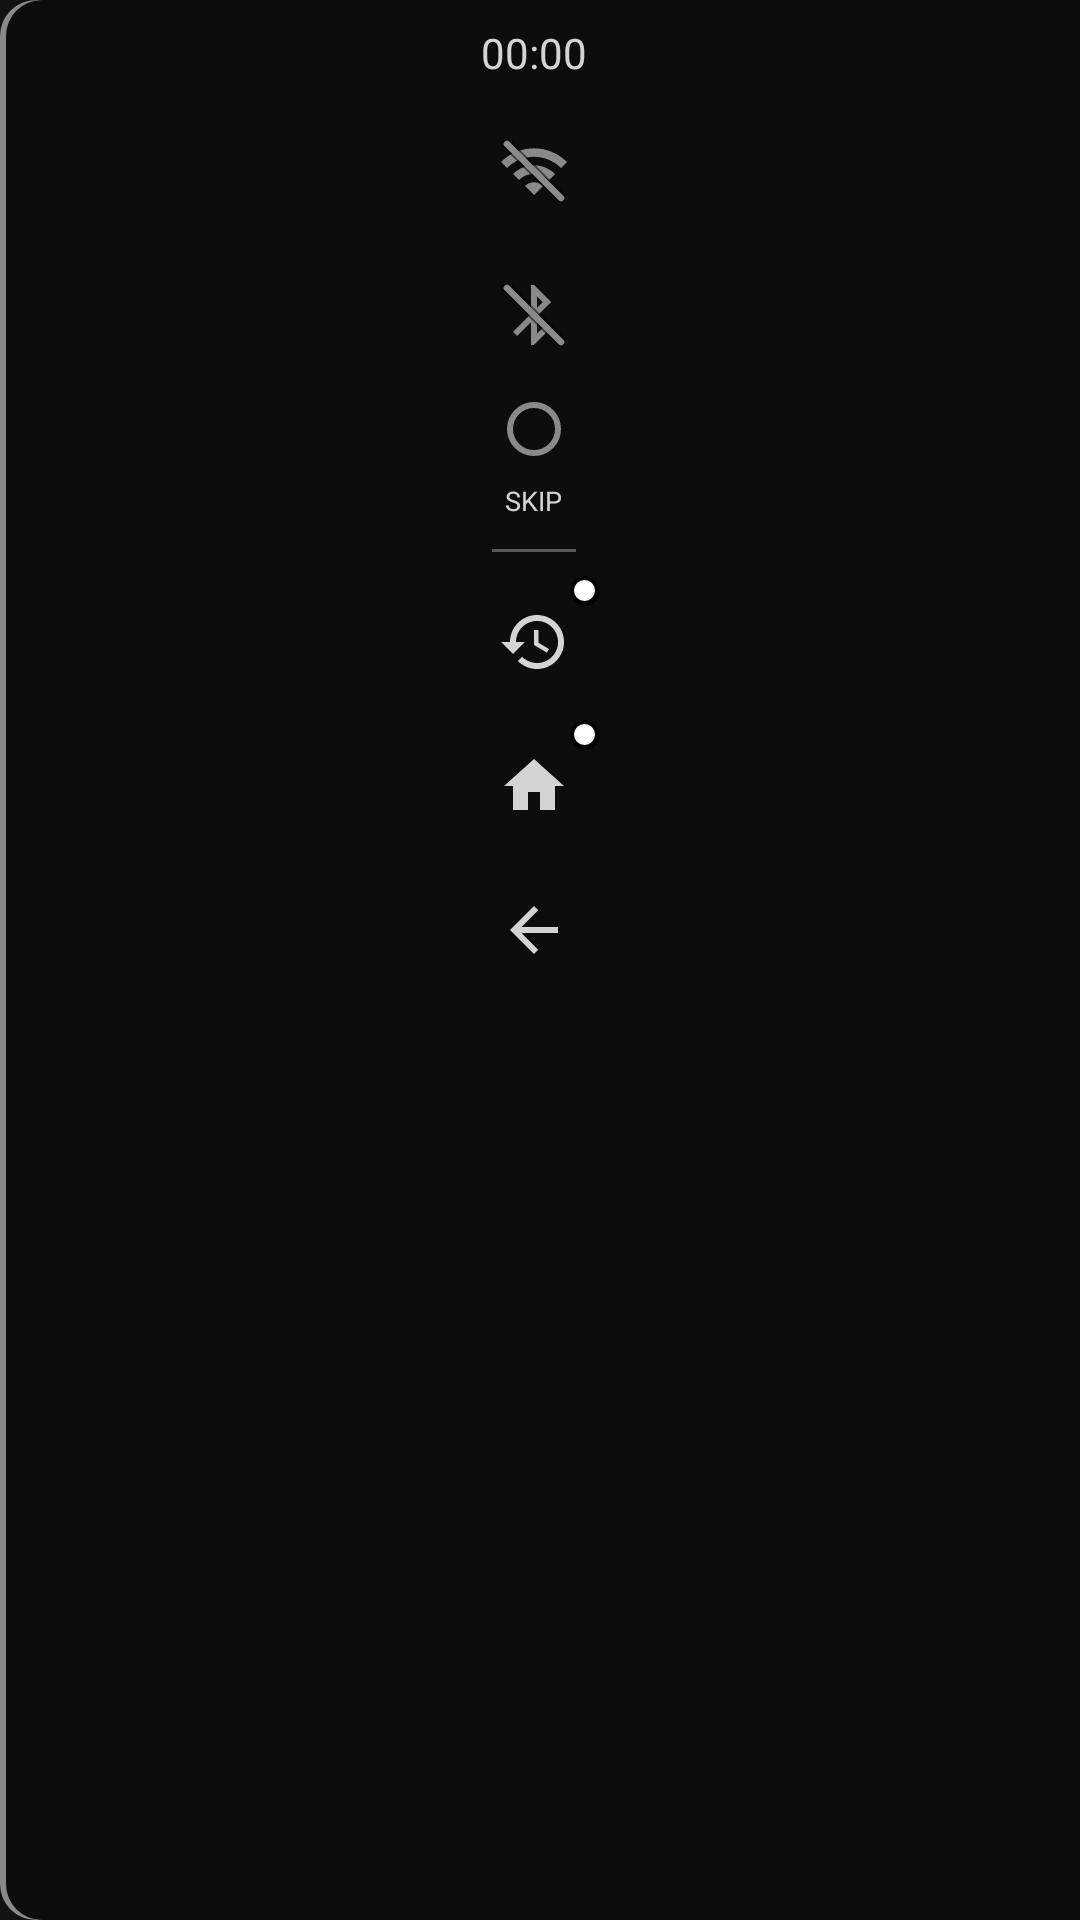

Named icons in this screenshot (1080x1920) and their bounding boxes, (x1, y1, x2, y2):
bar back: (510, 906, 558, 954)
bar home: (504, 759, 564, 810)
bar prev: (501, 615, 564, 669)
bar wifi off: (501, 140, 567, 202)
